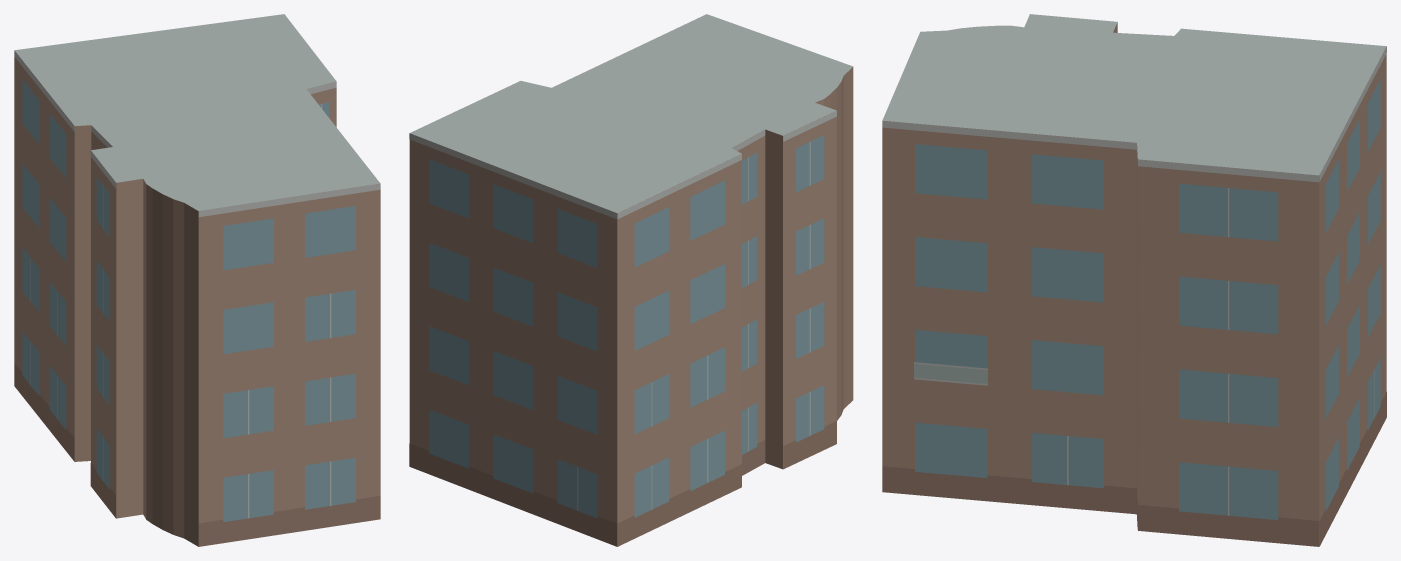
The model's file is survey-upis-32975262.glb.
3 renders of one model, left to right at view 1: azimuth 30°, elevation 25°; view 2: azimuth 150°, elevation 25°; view 3: azimuth 270°, elevation 25°, orthographic. The views are drawn at different scales.
Visible parts, largest first — view 1: survey-upis-32975262.tmp; view 2: survey-upis-32975262.tmp; view 3: survey-upis-32975262.tmp.
Part boxes in pixels (bbox=[...]): survey-upis-32975262.tmp: bbox=[14, 14, 380, 546]; survey-upis-32975262.tmp: bbox=[409, 14, 853, 546]; survey-upis-32975262.tmp: bbox=[882, 14, 1386, 546].
Size of the model in its own units: 12.32 by 13.2 by 16.26.
